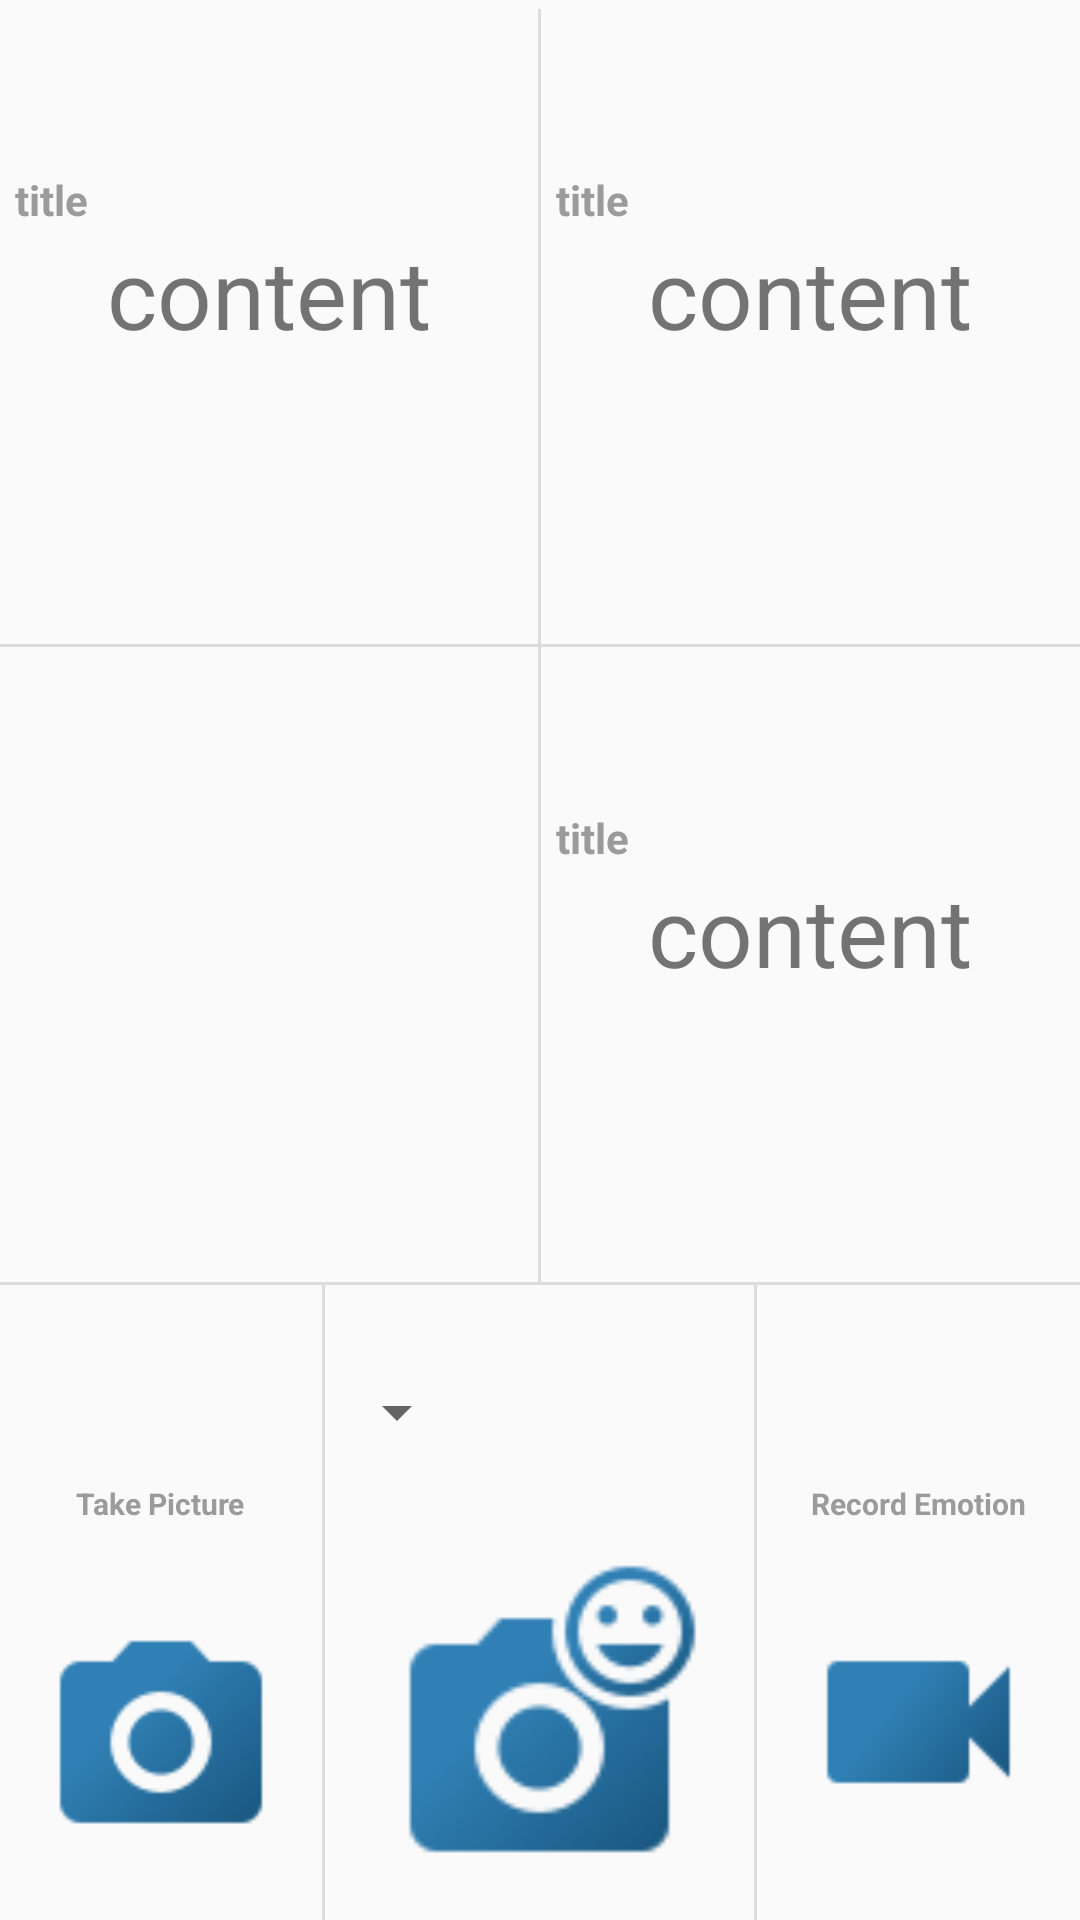

Named icons in this screenshot (1080 x 1920) and their centers, (x,y):
capture: (161,1732)
capture face: (552,1709)
